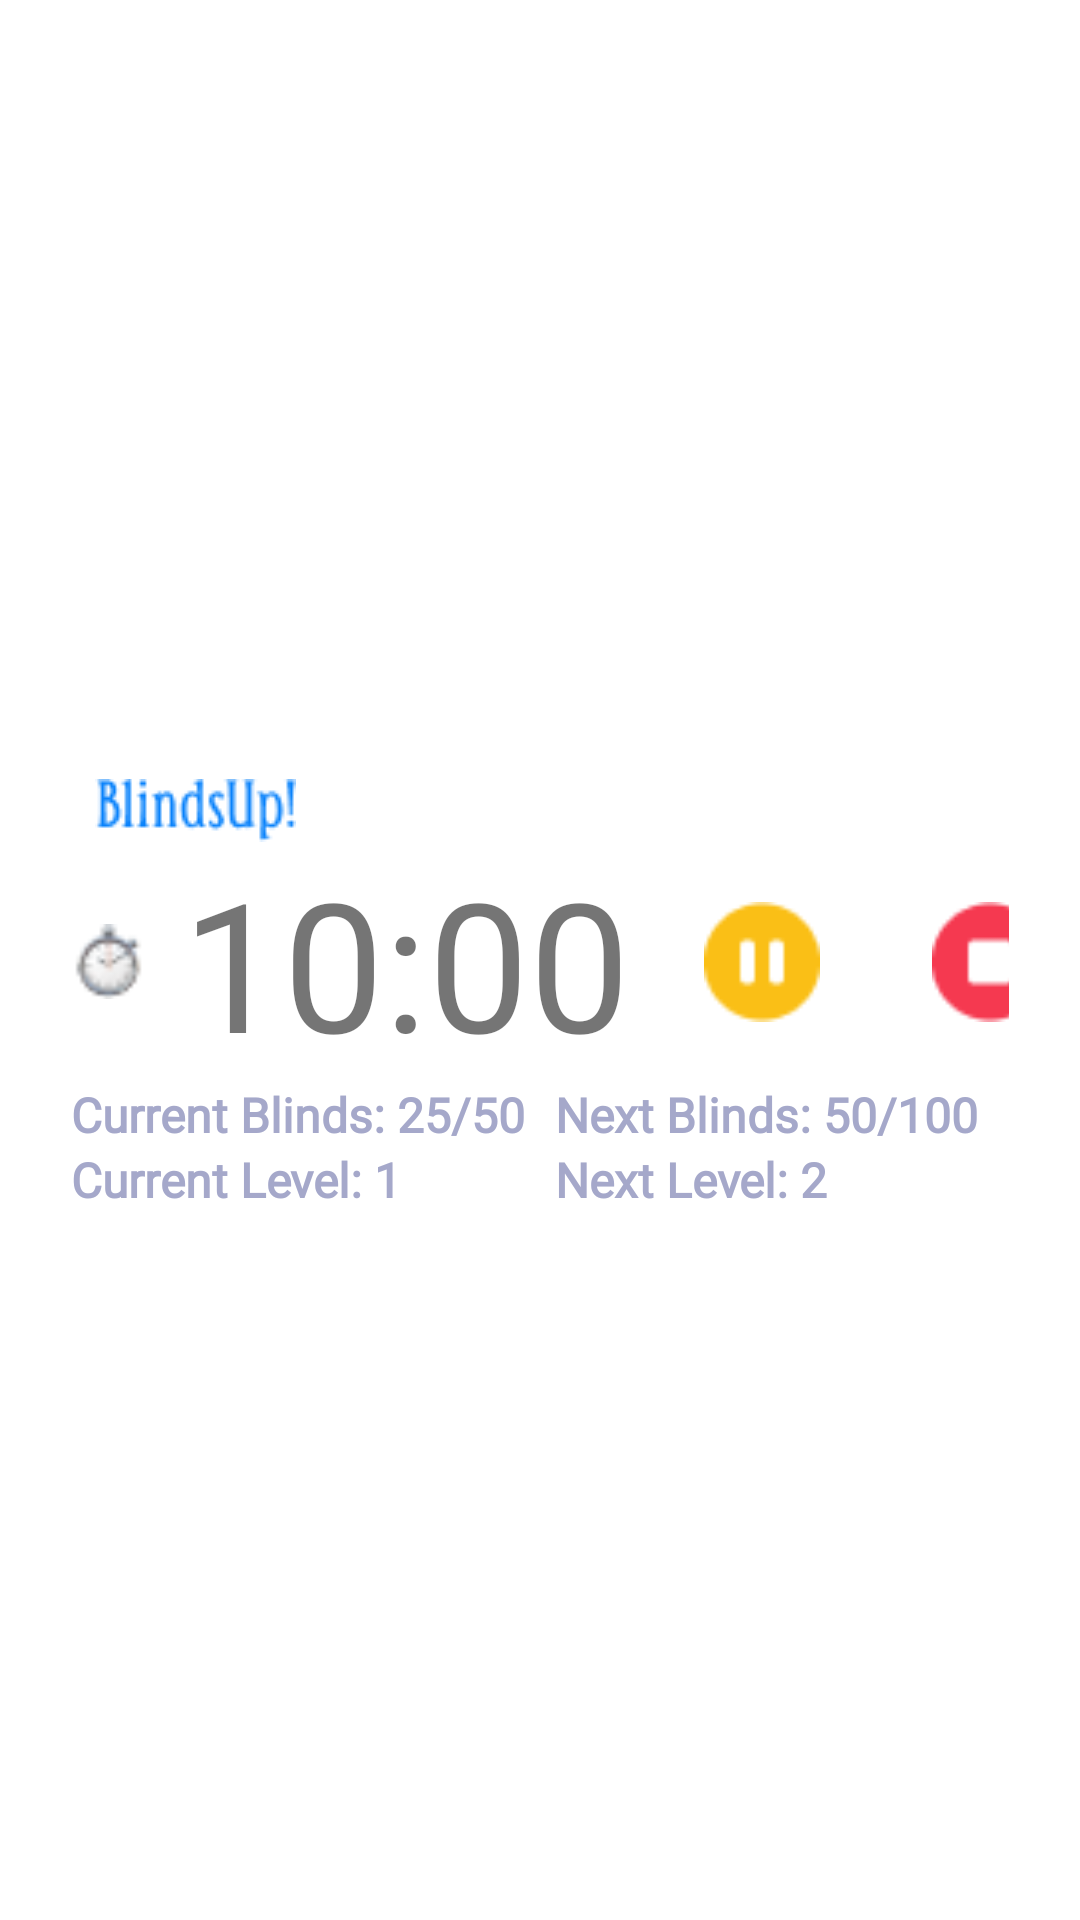

Where icons sit on this 1080w x 1920h app screen, as (x1, y1, x2, y2):
clock: (76, 924, 141, 999)
pause: (704, 902, 820, 1022)
